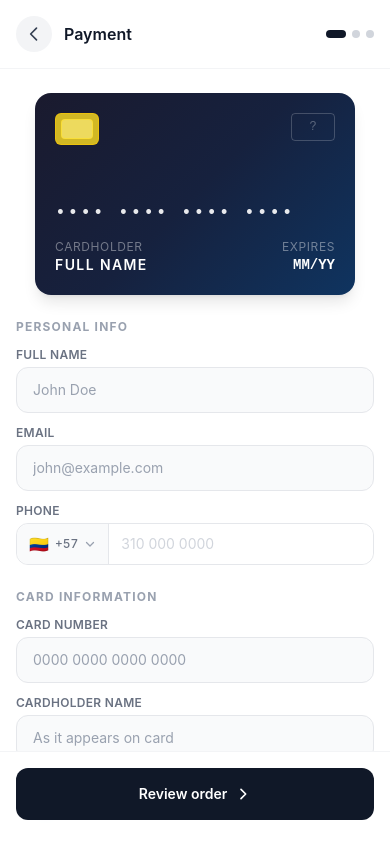
it: StepCardDelivery component › shows validation errors on all required fields when submitting empty form
Click the button "Review order": x=195, y=794 [16,768,374,820]
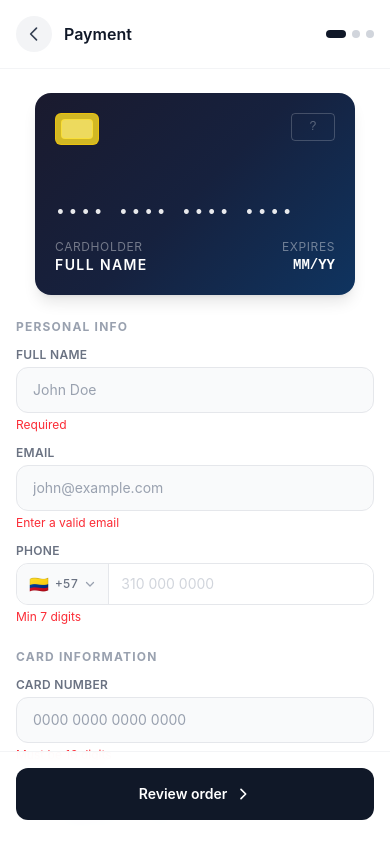
Result: the text "Required" is shown at [16,417,67,432]
